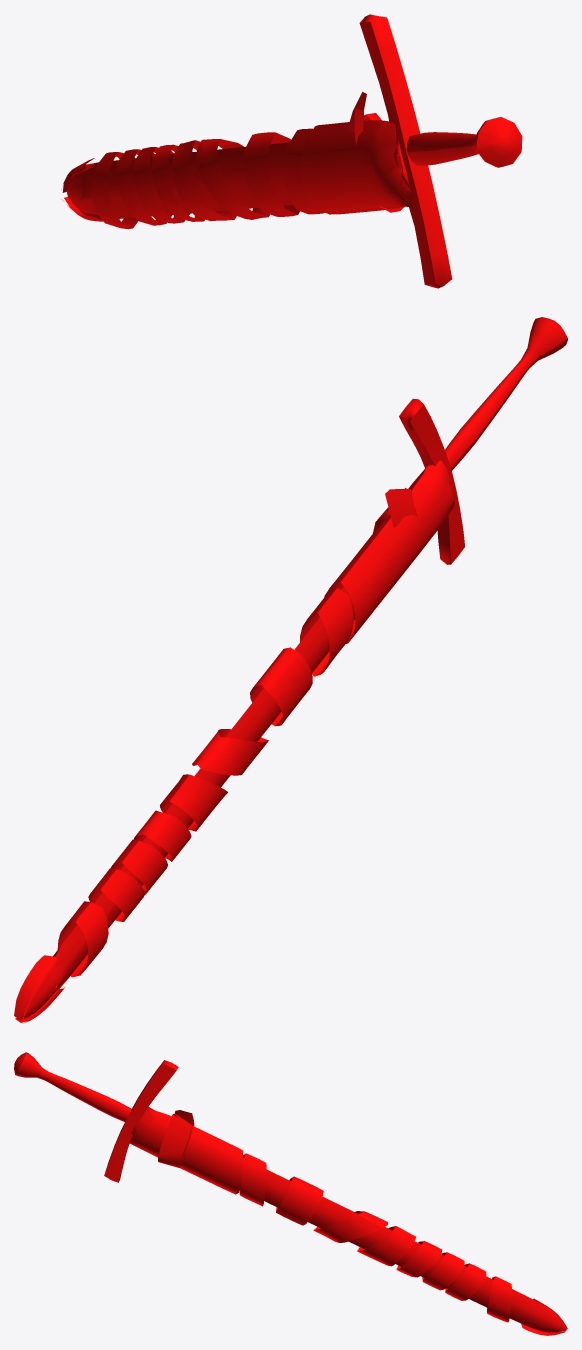
File: Sword.fbx
The picture shows the model from 3 angles, top to bottom: view 1: azimuth 30°, elevation 25°; view 2: azimuth 150°, elevation 25°; view 3: azimuth 270°, elevation 25°; orthographic projection. The views are drawn at different scales.
Parts seen in each view (by area): view 1: Sword; view 2: Sword; view 3: Sword.
Boxes of the visible parts, box(x1,y1,x2,y2) form: Sword: box(61, 14, 522, 288); Sword: box(14, 317, 567, 1023); Sword: box(14, 1052, 567, 1335).
Size of the model in its own units: 11.87 by 40.14 by 79.55.
